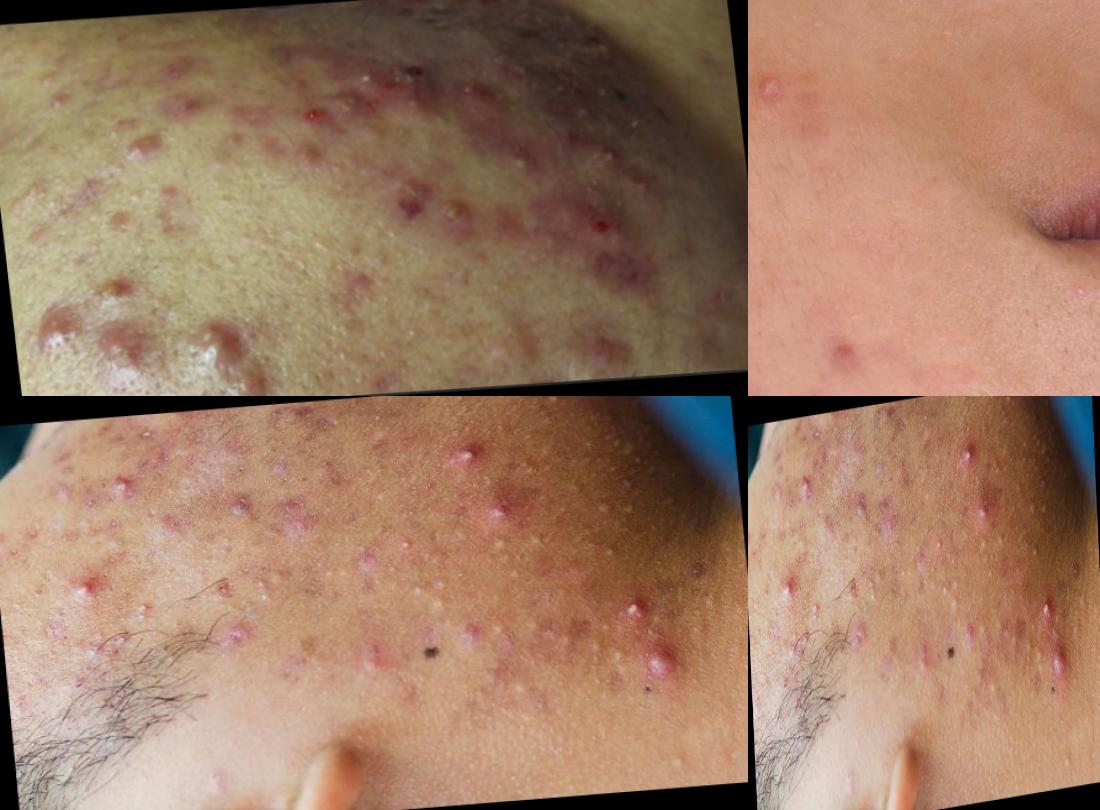blackhead: (638, 678, 654, 704), (1049, 678, 1056, 704)
cystic: (449, 77, 511, 120), (221, 369, 270, 397)
papular: (380, 171, 448, 229), (572, 334, 650, 384), (161, 88, 214, 126), (282, 142, 334, 180), (449, 608, 490, 646), (149, 58, 200, 88), (40, 90, 77, 118), (960, 608, 979, 646)
purulent: (609, 581, 663, 635), (442, 430, 488, 480), (496, 140, 556, 176), (639, 641, 693, 679), (61, 566, 109, 607), (1035, 581, 1060, 635), (228, 487, 267, 520), (479, 494, 516, 527), (114, 458, 144, 494), (957, 430, 978, 480), (1049, 641, 1075, 679), (777, 566, 800, 607), (856, 487, 874, 520), (974, 494, 991, 527), (803, 458, 817, 494)
sebo-crystan-conglo: (547, 192, 646, 266), (89, 329, 169, 382), (32, 301, 97, 365), (177, 316, 248, 372), (537, 23, 622, 66), (343, 58, 436, 93), (571, 137, 636, 177), (437, 191, 492, 224), (124, 129, 168, 165), (323, 90, 372, 120), (102, 274, 144, 305)
whitehead: (653, 736, 703, 788), (407, 575, 463, 613), (122, 583, 166, 628), (505, 668, 554, 705), (249, 566, 287, 612), (475, 273, 537, 301), (602, 530, 642, 567), (497, 540, 531, 580), (1056, 736, 1080, 788), (488, 598, 515, 642), (387, 532, 418, 567), (588, 493, 626, 521), (940, 575, 966, 613), (806, 583, 827, 628), (120, 182, 164, 203), (214, 193, 251, 217), (987, 668, 1010, 705), (397, 312, 421, 347), (866, 566, 884, 612), (304, 227, 334, 253), (375, 284, 402, 311), (1032, 530, 1051, 567), (983, 540, 999, 580), (978, 598, 991, 642), (1025, 493, 1043, 521), (931, 532, 945, 567)
